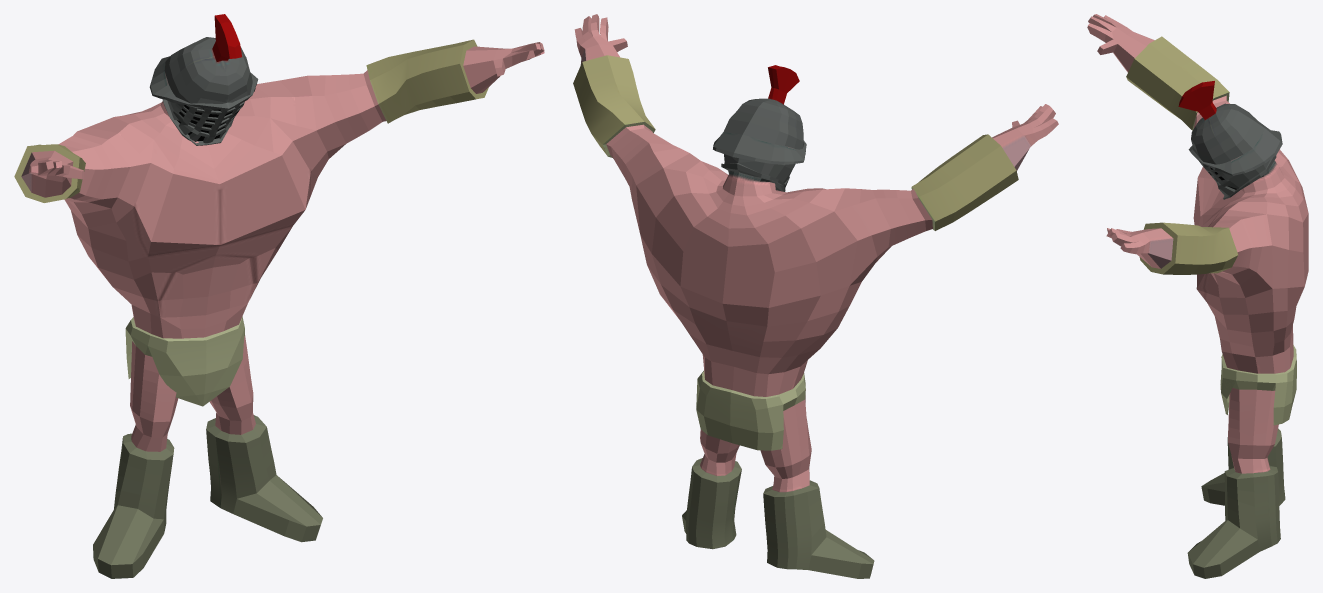
Rendered from GladiatorCelebracion_000536.obj.
3 renders of one model, left to right at view 1: azimuth 30°, elevation 25°; view 2: azimuth 150°, elevation 25°; view 3: azimuth 270°, elevation 25°, orthographic. The views are drawn at different scales.
Visible parts, largest first — view 1: Gadiador_Gladiador_H; view 2: Gadiador_Gladiador_H; view 3: Gadiador_Gladiador_H.
Boxes of the visible parts, x1=… form: Gadiador_Gladiador_H: x1=14, y1=14, x2=544, y2=578; Gadiador_Gladiador_H: x1=573, y1=14, x2=1058, y2=578; Gadiador_Gladiador_H: x1=1087, y1=14, x2=1308, y2=578.
Bounding box in the file's own units: 7.56 × 7.41 × 3.25.
1 material, 1 textured.
